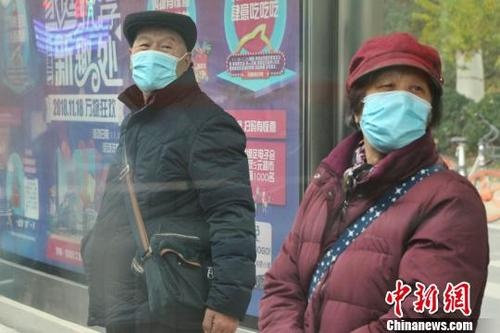correctlyWear: (352, 75, 433, 153), (127, 35, 192, 93)
